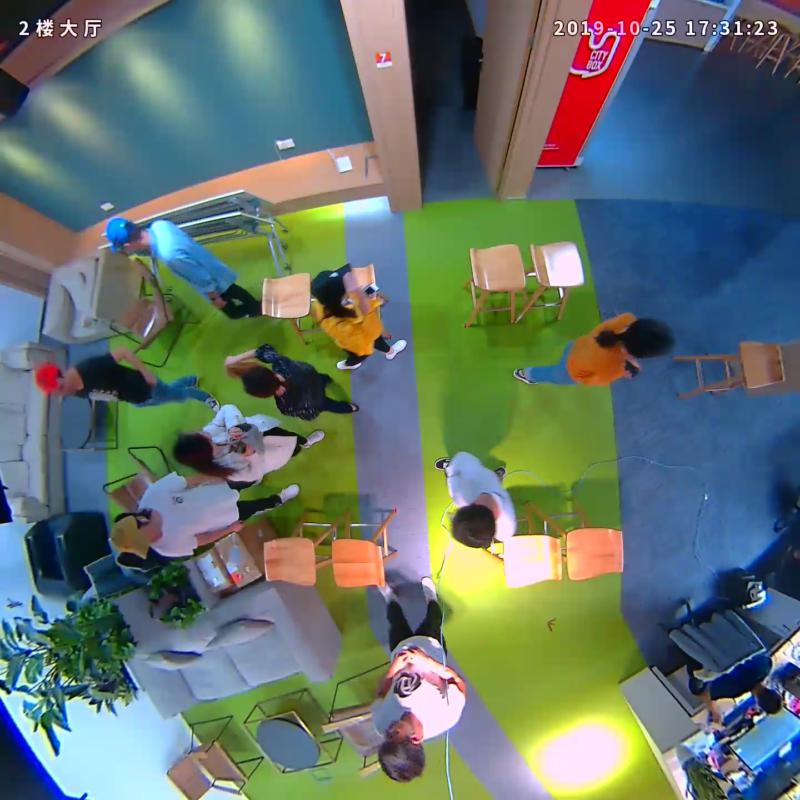head: (378, 719, 427, 785), (110, 512, 163, 560), (621, 317, 674, 358), (451, 505, 497, 550), (309, 263, 354, 304), (35, 361, 76, 397), (239, 364, 282, 398), (172, 431, 215, 465), (105, 217, 145, 252)
